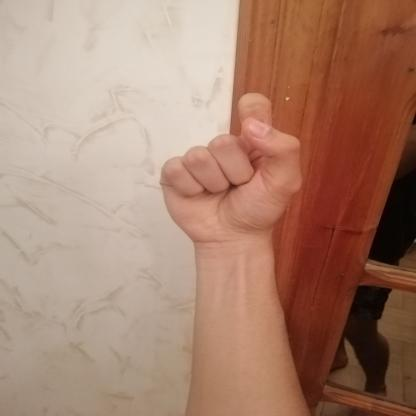FAA: (143, 84, 318, 254)
